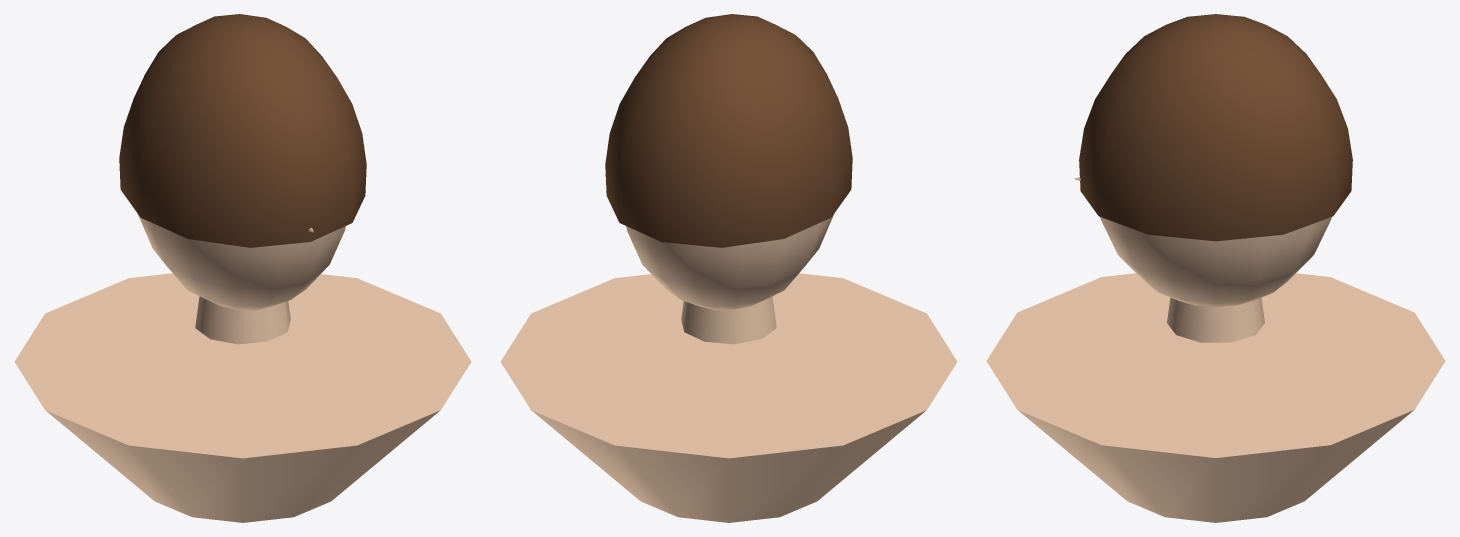
The model's file is raw_002.glb.
3 views of the same model, side by side, from view 1: azimuth 30°, elevation 25°; view 2: azimuth 150°, elevation 25°; view 3: azimuth 270°, elevation 25° (orthographic).
Size of the model in its own units: 1.96 by 2.16 by 1.96.
